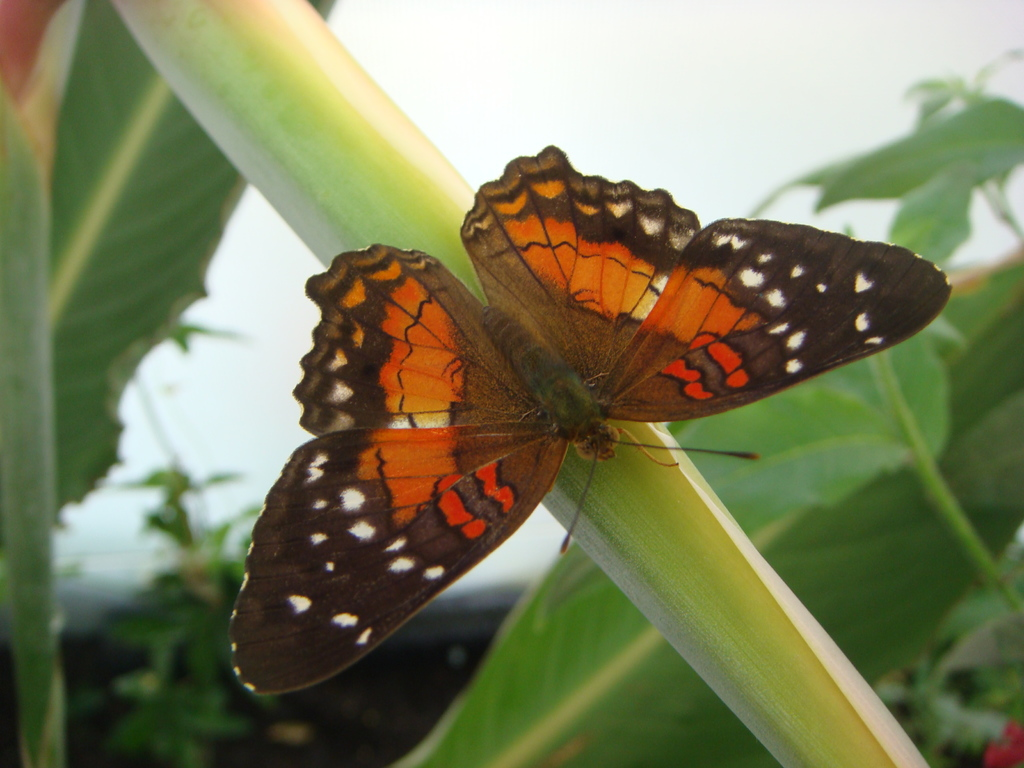Butterfly: (221, 124, 953, 700)
